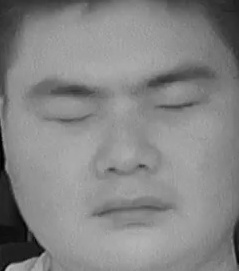blink: (42, 100, 93, 139), (155, 87, 205, 123)
mouth: (90, 189, 175, 232)
